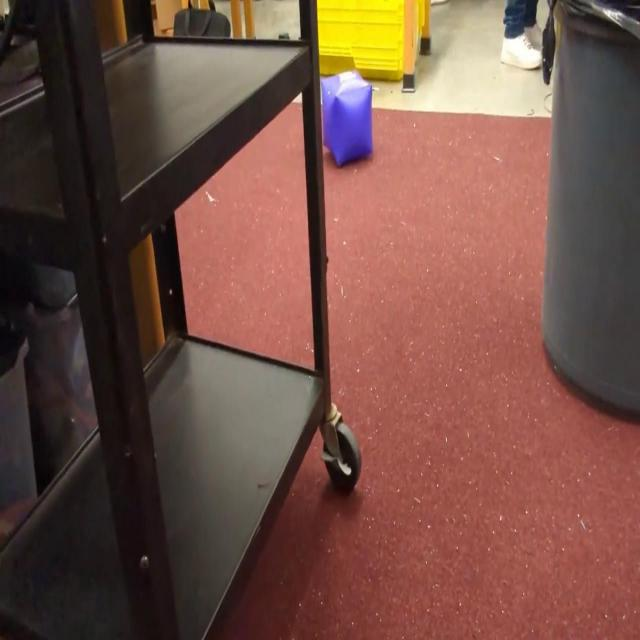frc_cube: (320, 68, 372, 168)
